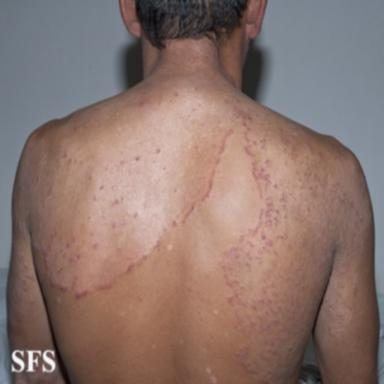Tinea-Corporis: (8, 37, 372, 384)
